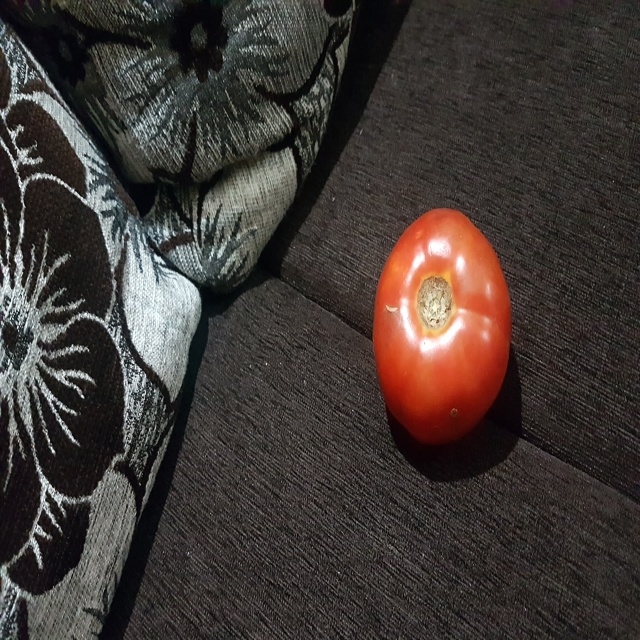tomato: (369, 204, 524, 444)
